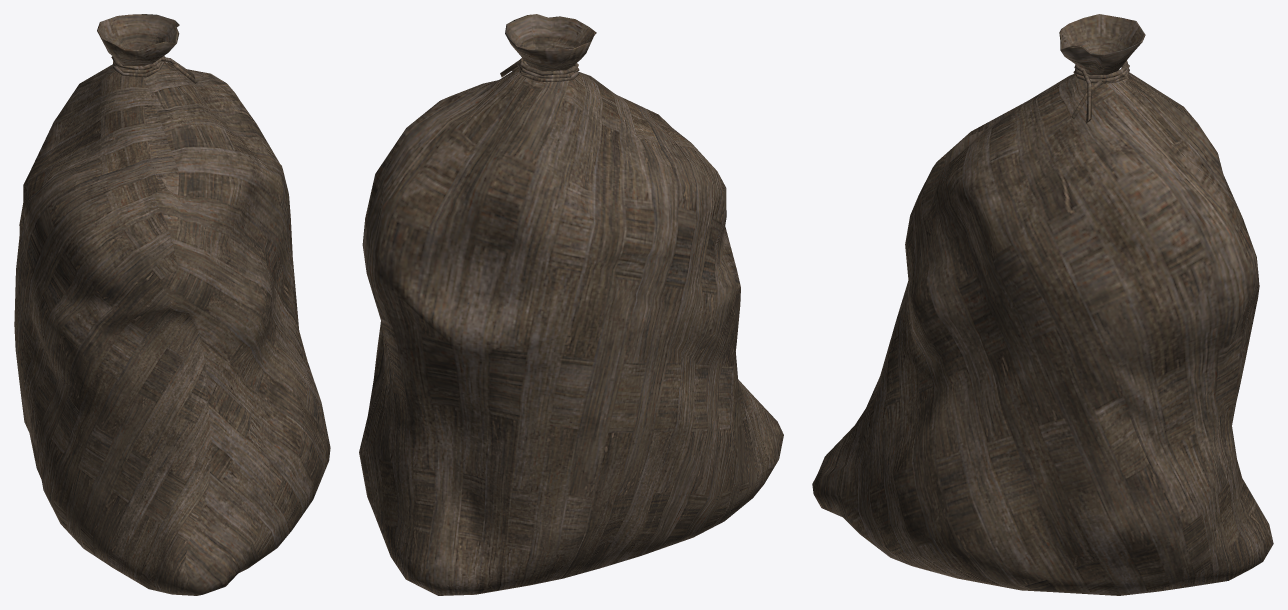
The model's file is SM_Sack.fbx.
3 renders of one model, left to right at view 1: azimuth 30°, elevation 25°; view 2: azimuth 150°, elevation 25°; view 3: azimuth 270°, elevation 25°, orthographic. The views are drawn at different scales.
Parts seen in each view (by area): view 1: SM_Sack_LOD0; view 2: SM_Sack_LOD0; view 3: SM_Sack_LOD0.
Part boxes in pixels (x1=…): SM_Sack_LOD0: x1=14, y1=14, x2=330, y2=595; SM_Sack_LOD0: x1=359, y1=14, x2=783, y2=595; SM_Sack_LOD0: x1=812, y1=14, x2=1273, y2=595.
Size of the model in its own units: 49.16 by 65 by 79.92.
